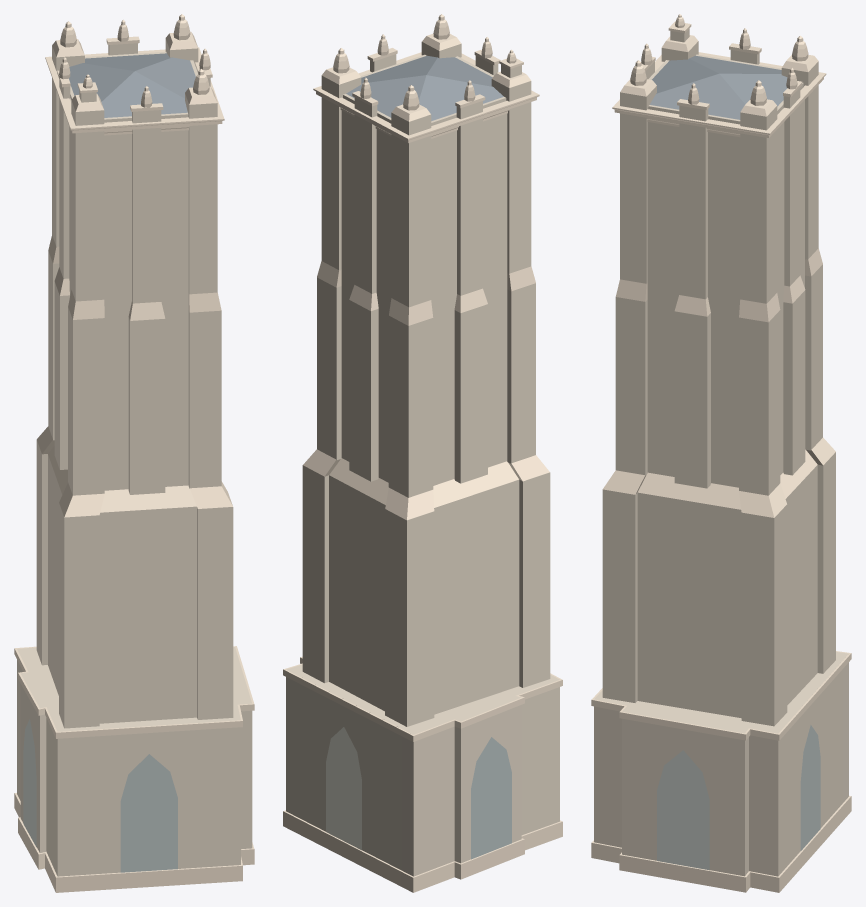
3 views of the same model, side by side, from view 1: azimuth 30°, elevation 25°; view 2: azimuth 150°, elevation 25°; view 3: azimuth 270°, elevation 25° (orthographic). The views are drawn at different scales.
Visible parts, largest first — view 1: stone, trim, window, roof; view 2: stone, trim, window, roof; view 3: stone, trim, window, roof.
Boxes of the visible parts, x1,y1,x2,y2 form: stone: (17, 39, 252, 876); trim: (14, 14, 254, 892); window: (23, 719, 177, 872); roof: (69, 53, 195, 117); stone: (286, 42, 559, 876); trim: (283, 14, 562, 892); window: (326, 727, 511, 859); roof: (346, 55, 503, 120); stone: (594, 28, 848, 876); trim: (591, 14, 851, 892); window: (657, 725, 820, 870); roof: (650, 55, 787, 119).
Size of the model in its own units: 15.3 by 52 by 15.5.
